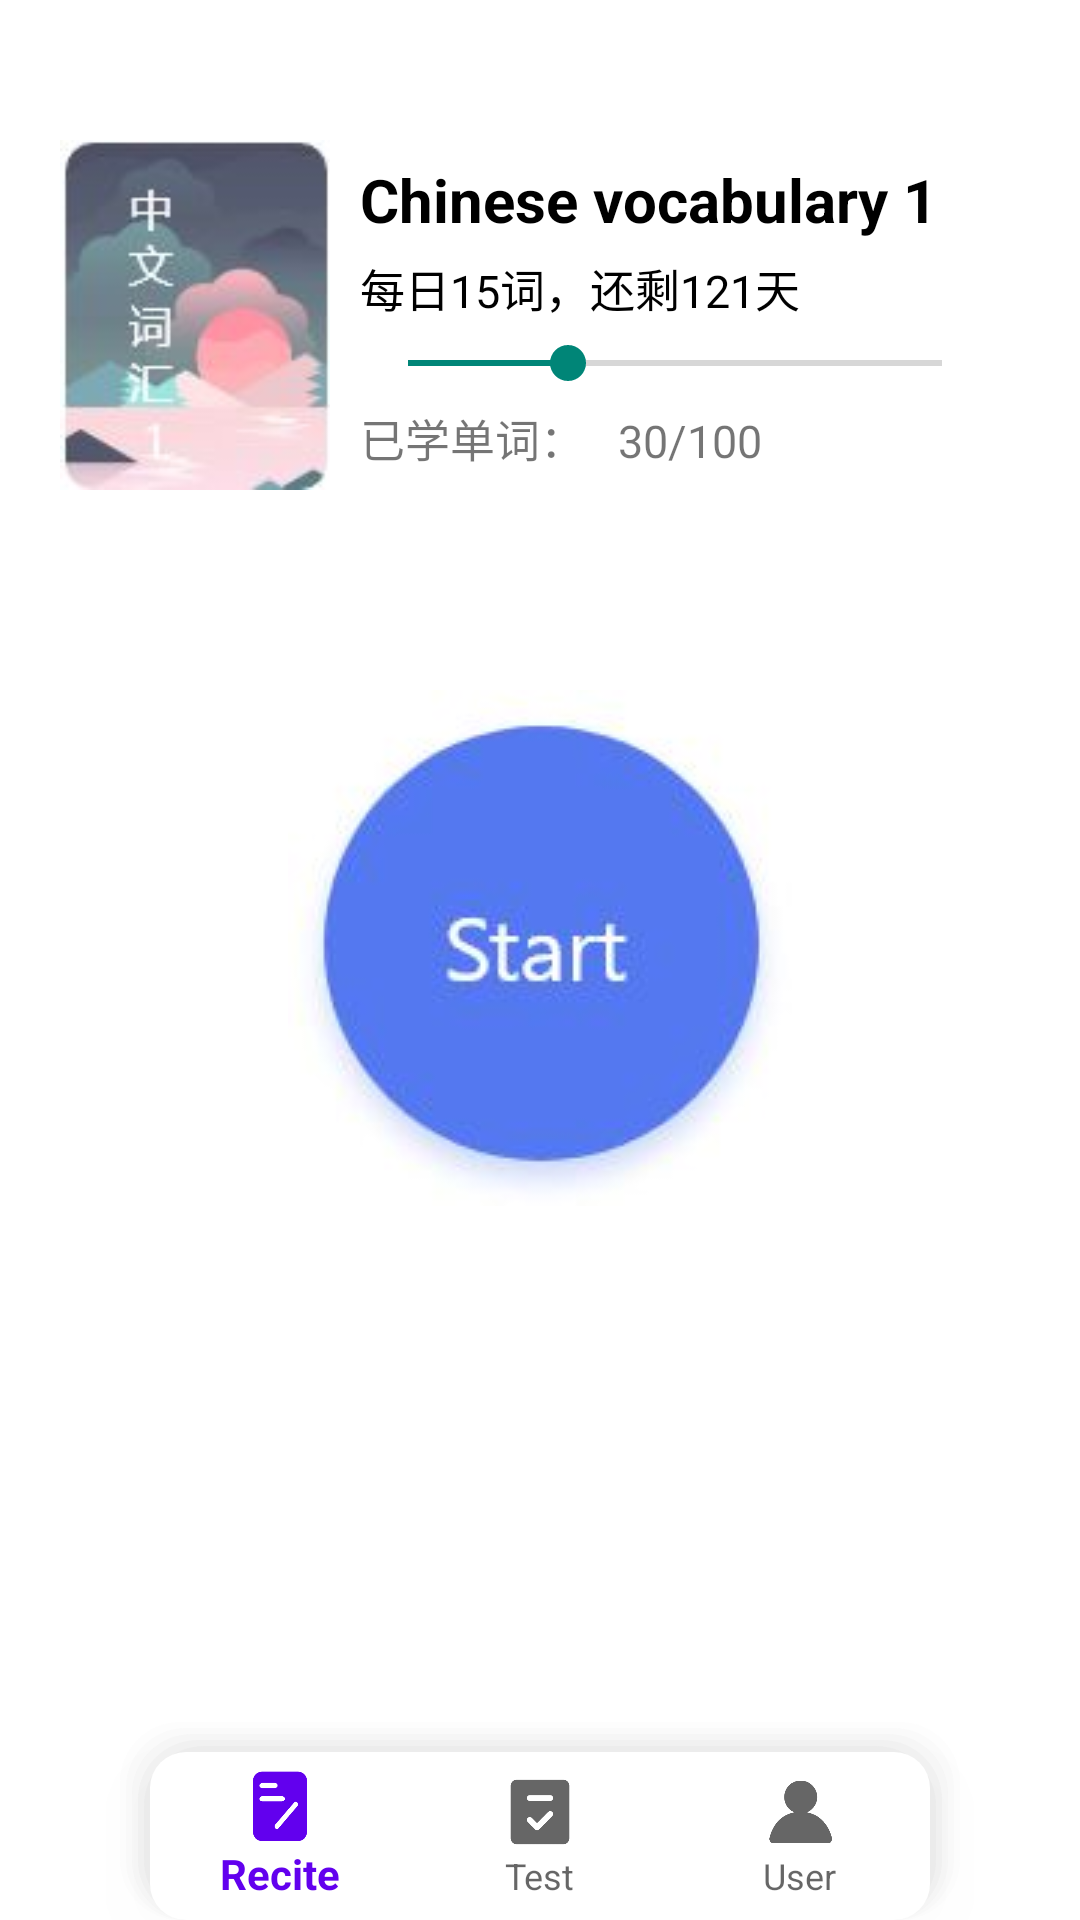

Icons on this 1080 x 1920 Android screen, each with its box as (x1,y1,x2,y2):
book: (64,142,328,490)
